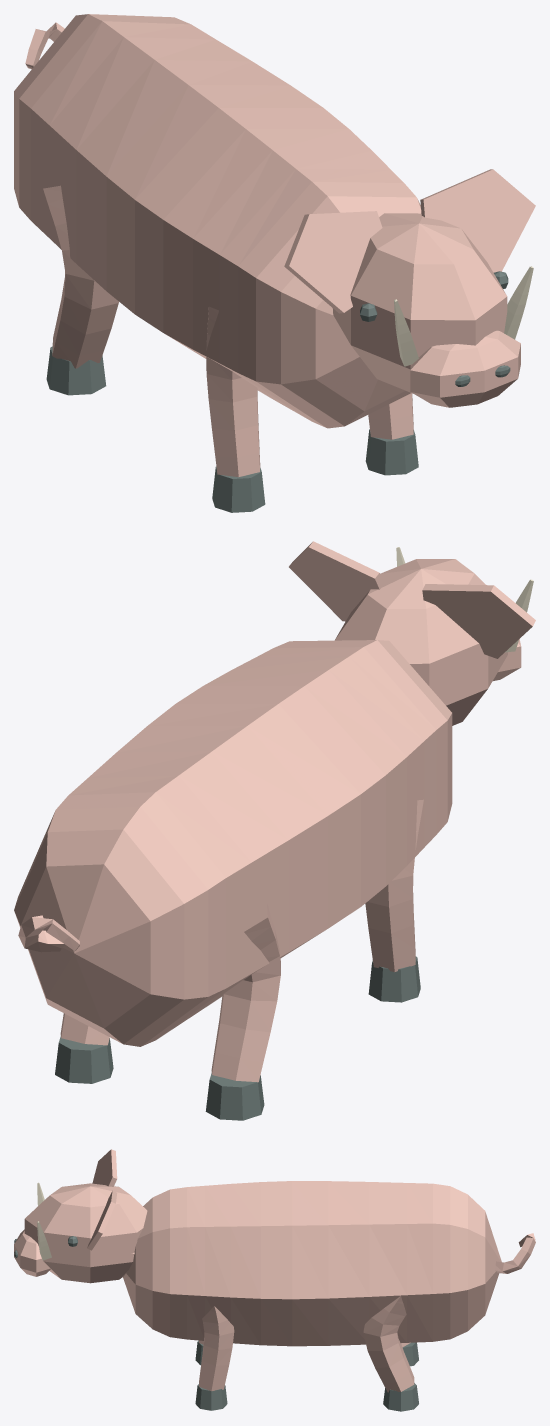
The model's file is domestic-boar.glb.
The picture shows the model from 3 angles, top to bottom: view 1: azimuth 30°, elevation 25°; view 2: azimuth 150°, elevation 25°; view 3: azimuth 270°, elevation 25°; orthographic projection. The views are drawn at different scales.
Parts seen in each view (by area): view 1: domestic-boar; view 2: domestic-boar; view 3: domestic-boar.
Part boxes in pixels (x1,y1,x2,y2): domestic-boar: (14, 14, 535, 512); domestic-boar: (14, 541, 535, 1120); domestic-boar: (14, 1149, 535, 1411).
Bounding box in the file's own units: 0.6426 × 0.8747 × 2.
